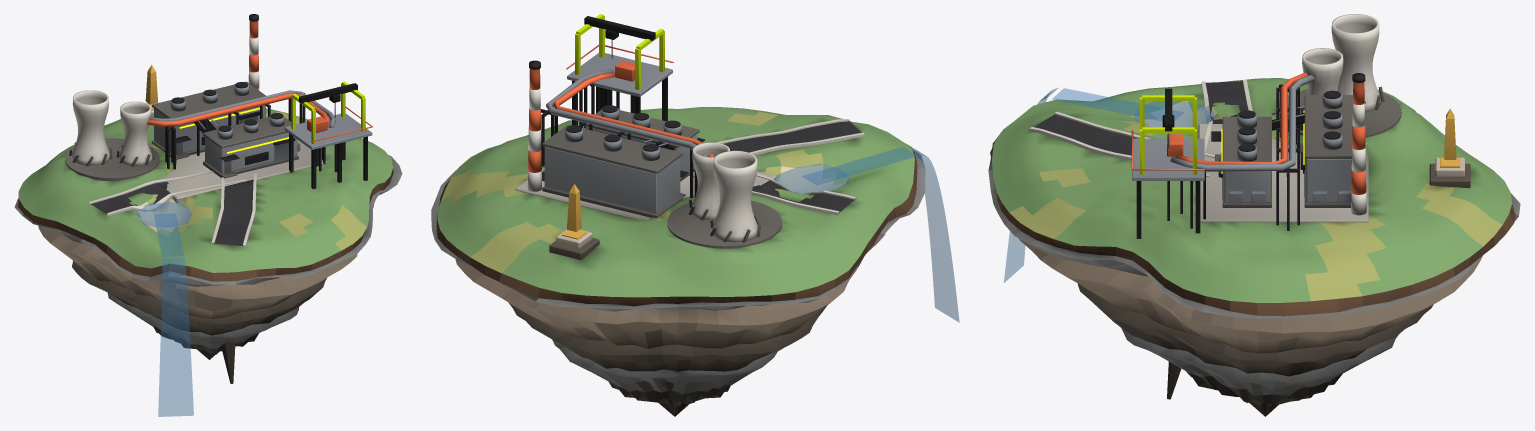
File: projects_lod1.glb
The picture shows the model from 3 angles, left to right: view 1: azimuth 30°, elevation 25°; view 2: azimuth 150°, elevation 25°; view 3: azimuth 270°, elevation 25°; orthographic projection. The views are drawn at different scales.
Visible parts, largest first — view 1: terrain, foundation, buildings, waterfall_0, landmarks, props, water_pond0, water_channel0, anim_spin_monument_obelisk; view 2: terrain, foundation, buildings, landmarks, waterfall_0, props, water_pond0, water_channel0, anim_spin_monument_obelisk; view 3: terrain, foundation, buildings, landmarks, props, water_channel0, water_pond0, waterfall_0, anim_spin_monument_obelisk.
Boxes of the visible parts, box(x1,y1,x2,y2) form: terrain: box(19, 108, 393, 272); foundation: box(14, 155, 402, 383); buildings: box(69, 14, 372, 189); waterfall_0: box(158, 258, 193, 416); landmarks: box(147, 90, 337, 172); props: box(170, 82, 372, 165); water_pond0: box(136, 201, 191, 227); water_channel0: box(154, 213, 183, 256); anim_spin_monument_obelisk: box(145, 65, 157, 104); terrain: box(437, 107, 914, 297); foundation: box(431, 148, 925, 416); buildings: box(527, 14, 760, 259); landmarks: box(540, 69, 714, 197); waterfall_0: box(908, 146, 959, 322); props: box(542, 39, 681, 181); water_pond0: box(776, 164, 849, 194); water_channel0: box(802, 147, 917, 184); anim_spin_monument_obelisk: box(567, 184, 581, 231); terrain: box(992, 78, 1511, 302); foundation: box(988, 124, 1520, 416); buildings: box(1132, 14, 1470, 238); landmarks: box(1167, 72, 1314, 230); props: box(1131, 90, 1351, 203); water_channel0: box(1052, 88, 1183, 120); water_pond0: box(1134, 101, 1215, 131); waterfall_0: box(1004, 87, 1058, 282); anim_spin_monument_obelisk: box(1444, 108, 1456, 159).
Bounding box in the file's own units: 15.72 × 13.2 × 16.22.
